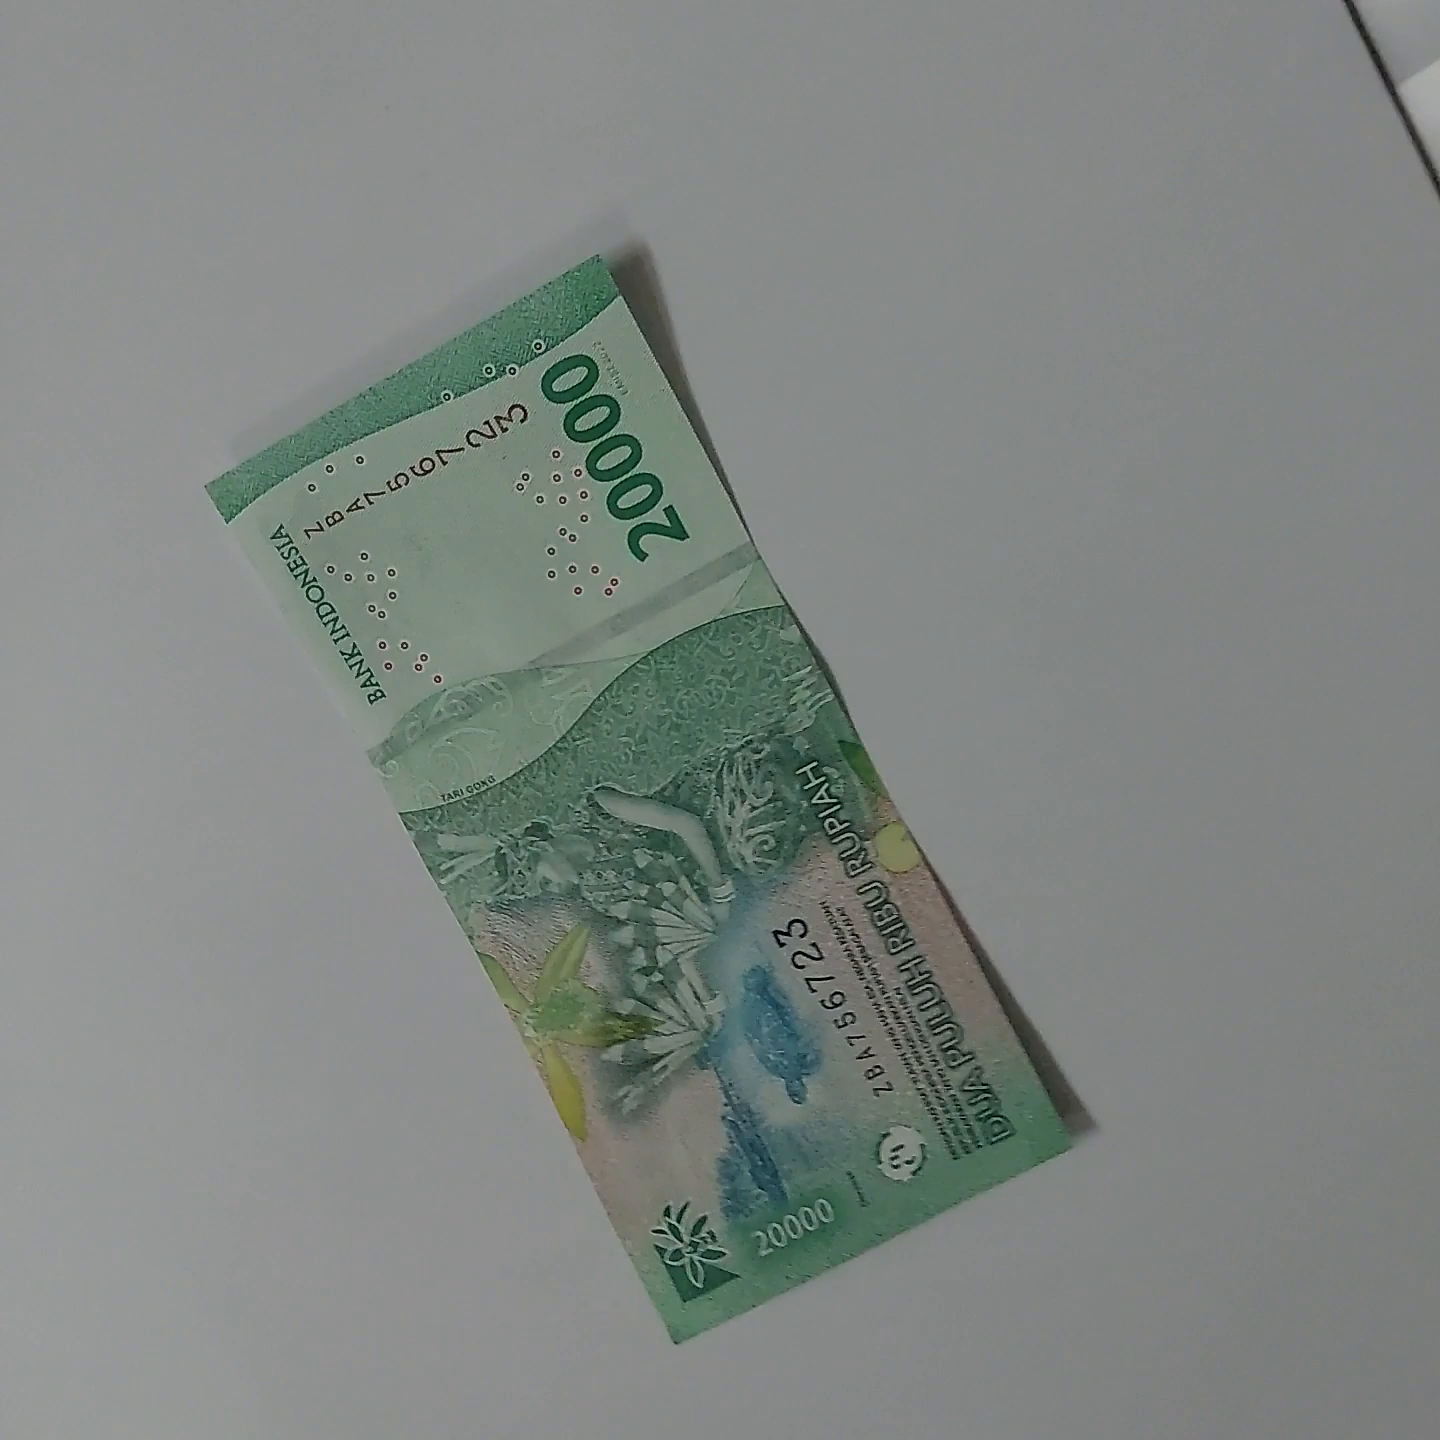20k: (179, 446, 644, 1440)
